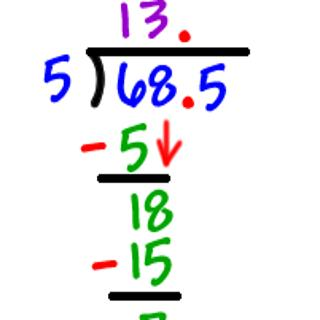.: (178, 91, 197, 114), (174, 25, 193, 44)
1: (112, 1, 133, 41), (124, 238, 141, 285), (127, 188, 143, 236)
3: (136, 1, 173, 44)
5: (193, 59, 231, 114), (40, 52, 75, 108), (112, 122, 151, 172), (141, 237, 175, 289)
6: (111, 60, 147, 109)
8: (141, 188, 176, 236), (145, 60, 177, 107)
